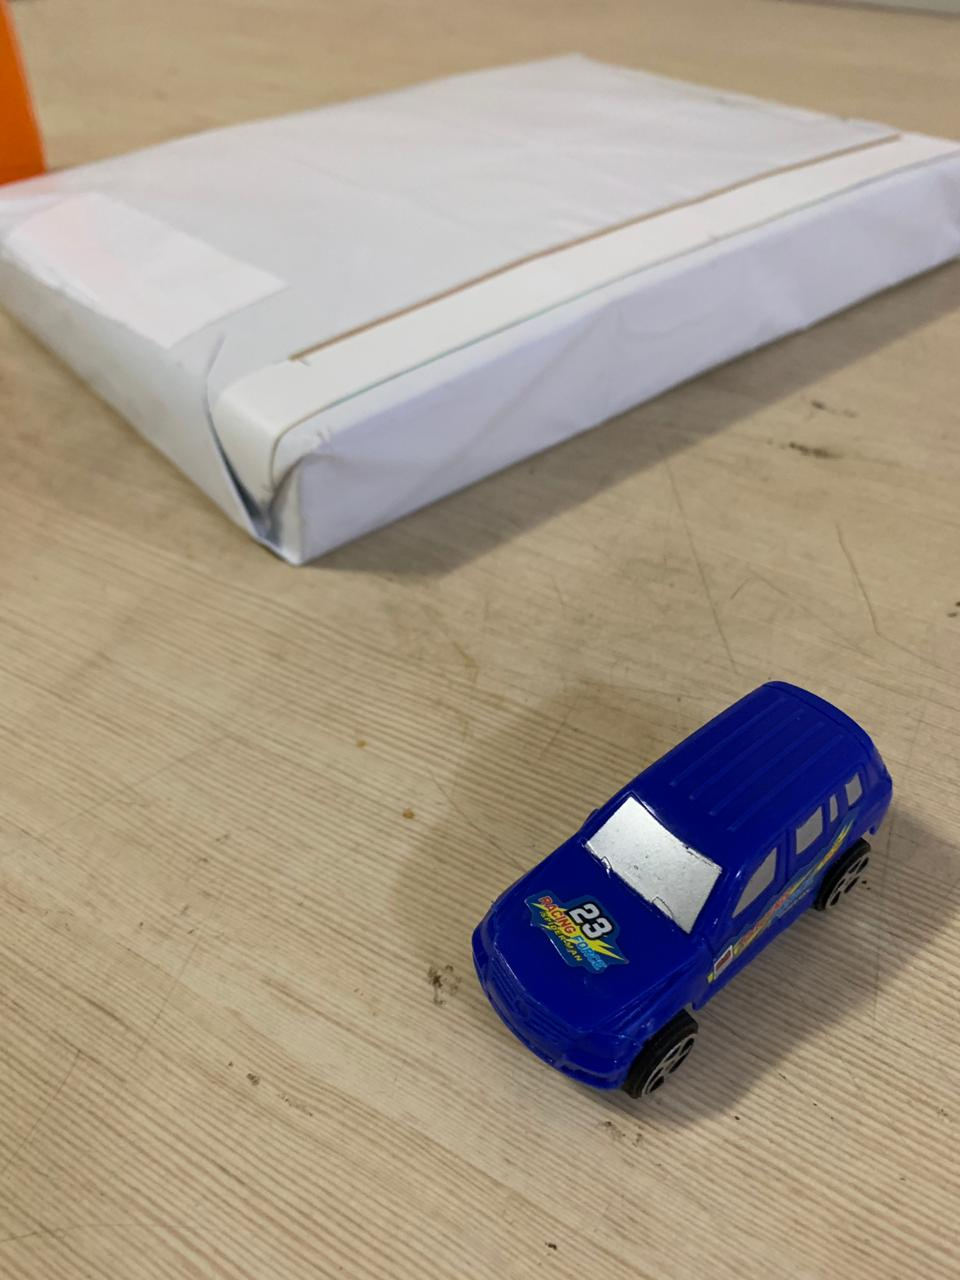car: (455, 668, 914, 1139)
